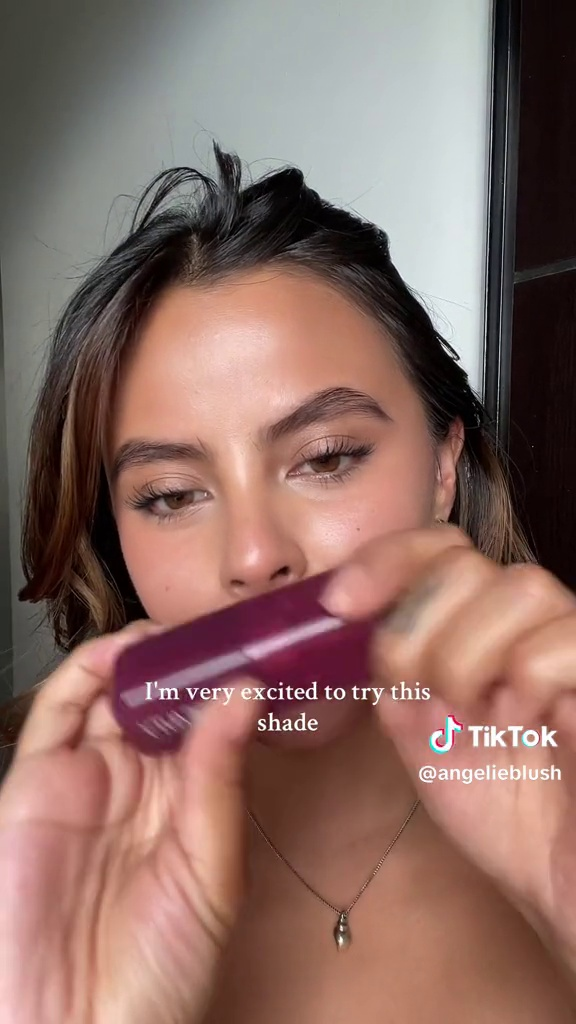train' :'yolo_data/train/images',: (81, 558, 395, 749)
